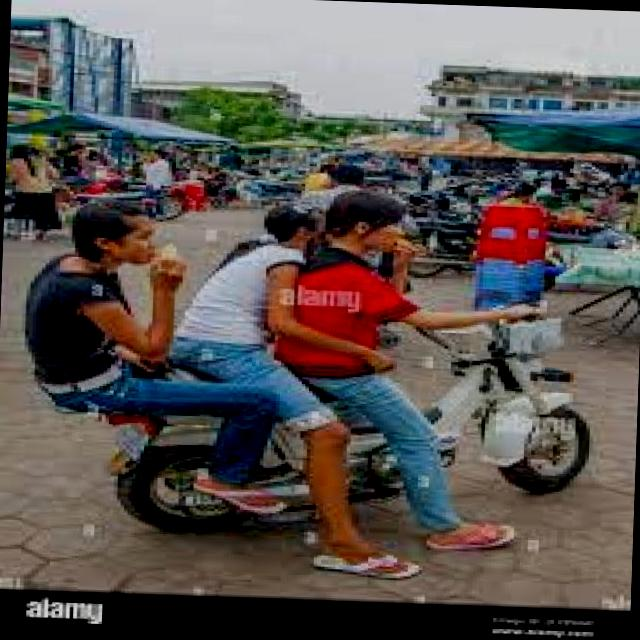motorcycle: (98, 273, 596, 551)
person: (280, 168, 461, 454), (16, 182, 180, 456), (172, 184, 326, 436)
rider_region: (28, 160, 609, 548)
